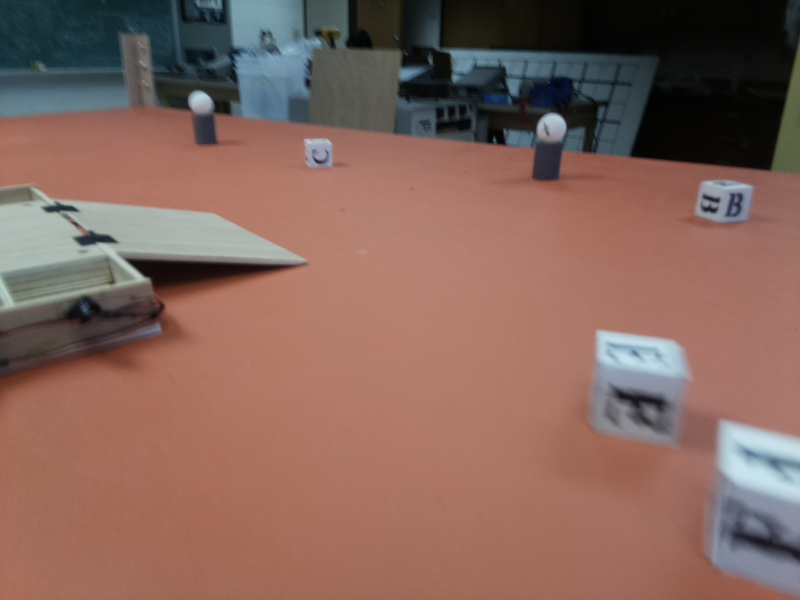blockB: (697, 180, 754, 223)
blockC: (306, 137, 333, 167)
blockE: (589, 338, 692, 440)
corner: (124, 29, 154, 107)
obstacle: (532, 116, 568, 182), (189, 93, 213, 147)
side: (1, 273, 171, 379)
slope: (85, 205, 289, 283)
